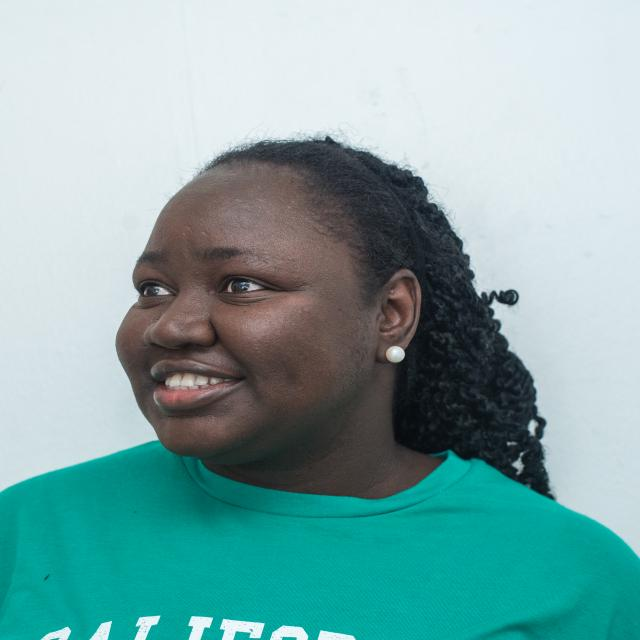happy: (111, 152, 373, 456)
